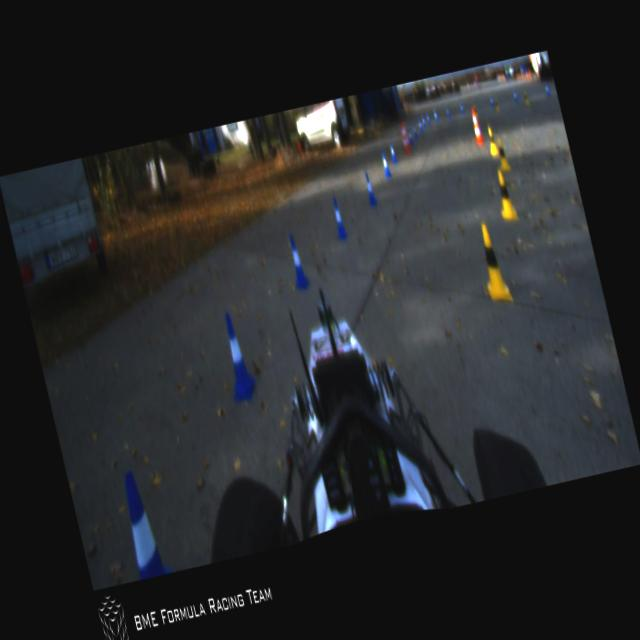blue_cone: (115, 464, 173, 578), (213, 307, 260, 403), (283, 232, 309, 290), (329, 196, 348, 238), (362, 172, 378, 206), (378, 150, 391, 178), (388, 142, 398, 162), (406, 128, 414, 144), (411, 122, 418, 136), (512, 87, 518, 102), (544, 82, 550, 96), (418, 118, 423, 134), (432, 109, 438, 121), (489, 94, 494, 106), (445, 106, 450, 116), (422, 114, 426, 126), (426, 112, 430, 124), (460, 104, 464, 113)
large_orange_cone: (468, 105, 484, 144), (398, 124, 409, 152), (400, 123, 410, 149)
yellow_cone: (472, 220, 514, 306), (492, 166, 518, 222), (495, 137, 511, 171), (483, 124, 498, 154), (522, 88, 530, 105), (472, 104, 479, 120), (493, 97, 499, 111)
